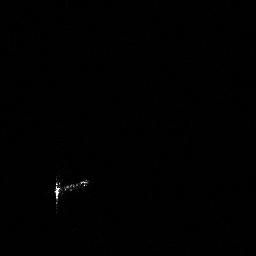ship: (55, 179, 91, 195)
